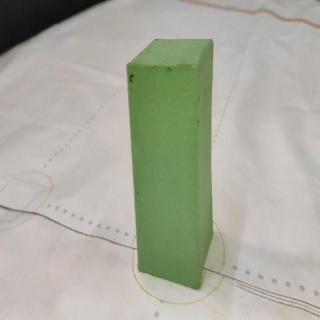greenbox: (128, 38, 214, 288)
